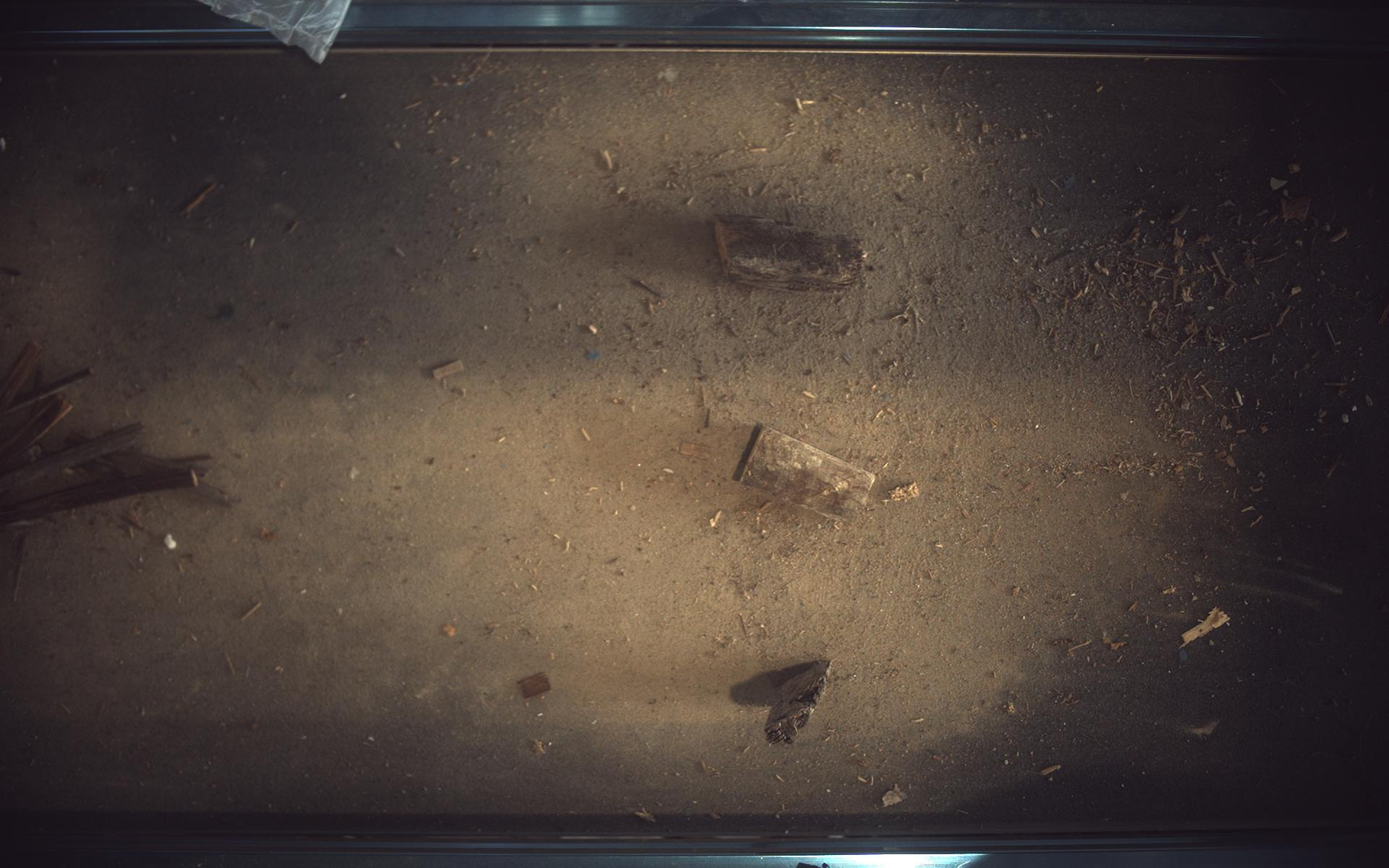wood: (739, 427, 877, 518), (717, 216, 867, 289), (766, 662, 832, 744)
